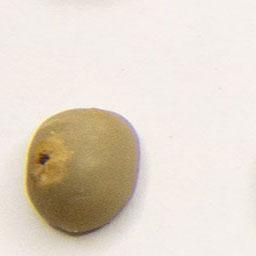premium: (23, 104, 144, 238)
